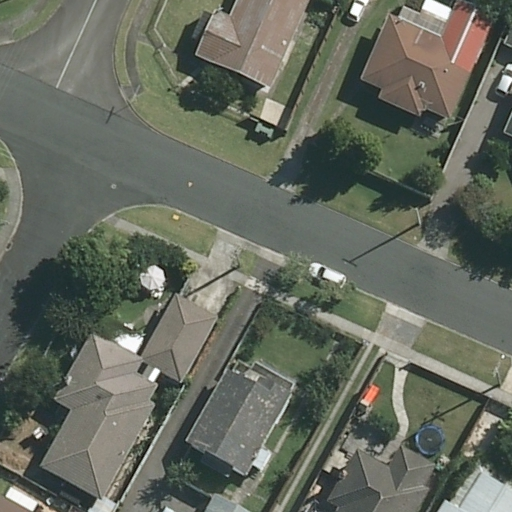DT: (485, 357, 509, 391), (227, 241, 249, 273)
